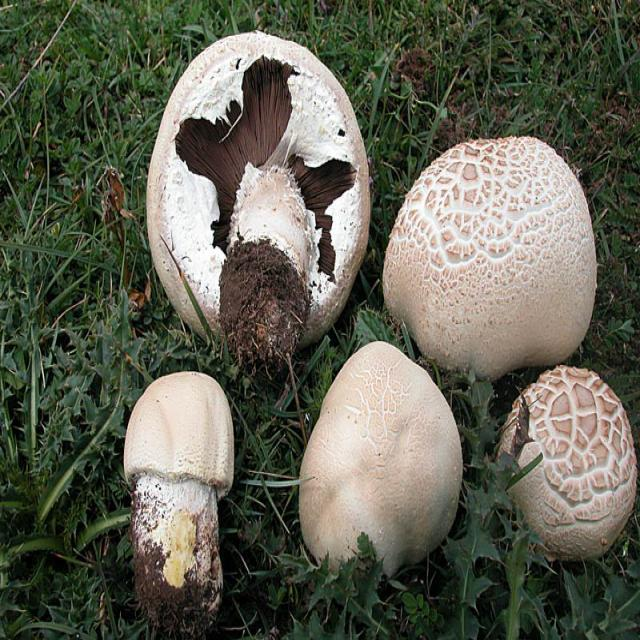Agaricus bisporus: (147, 30, 372, 364), (382, 139, 599, 377), (299, 336, 463, 577), (123, 370, 234, 623), (498, 363, 636, 558)
